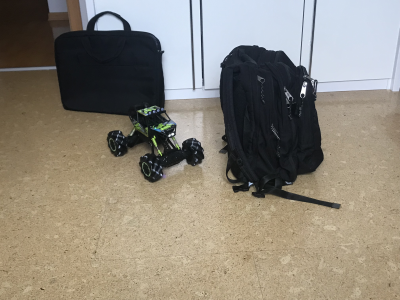remote control car: (104, 100, 205, 184)
